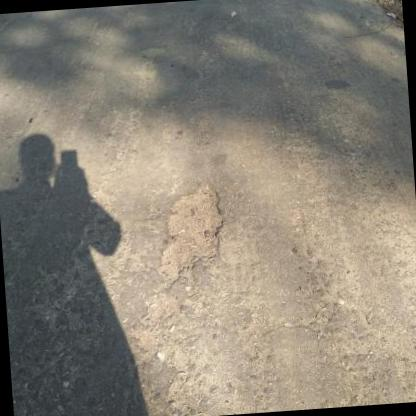pothole: (150, 180, 231, 284)
